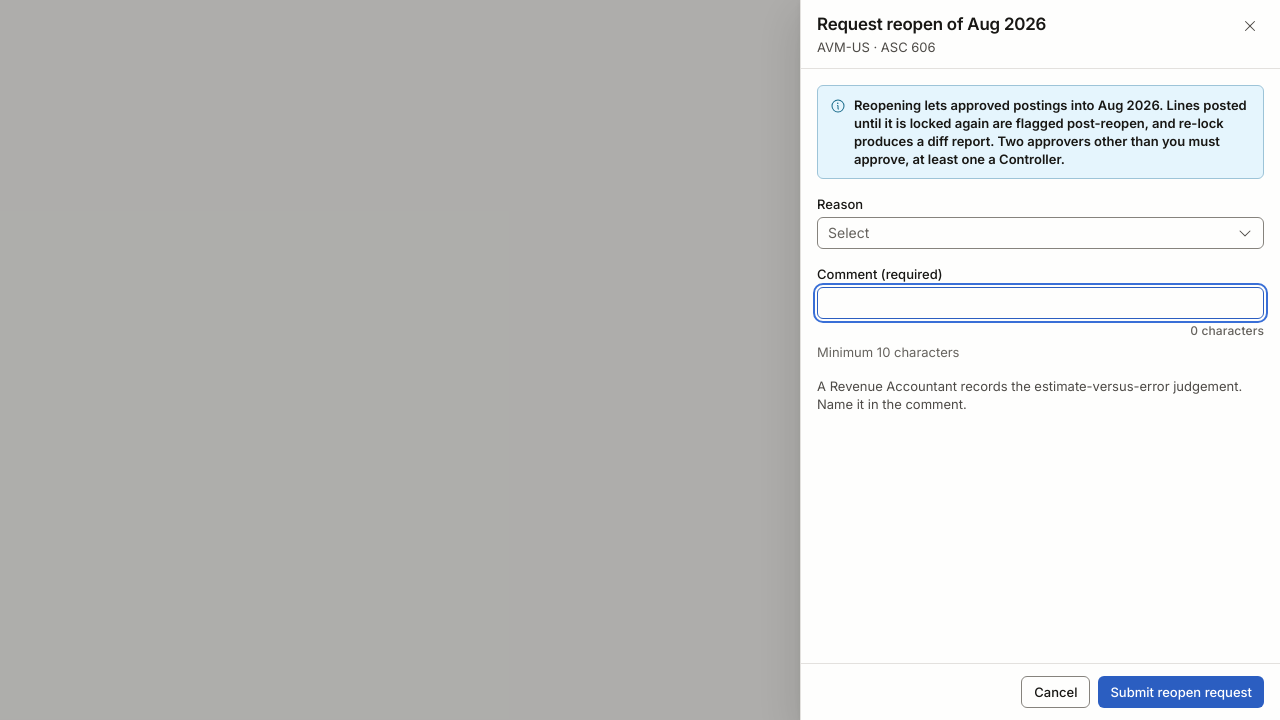
Scenario: requires reviewed evidence before sending an error-correction reopen
Click the dropdown named "Reason" at [1040, 233], box [817, 217, 1264, 249]
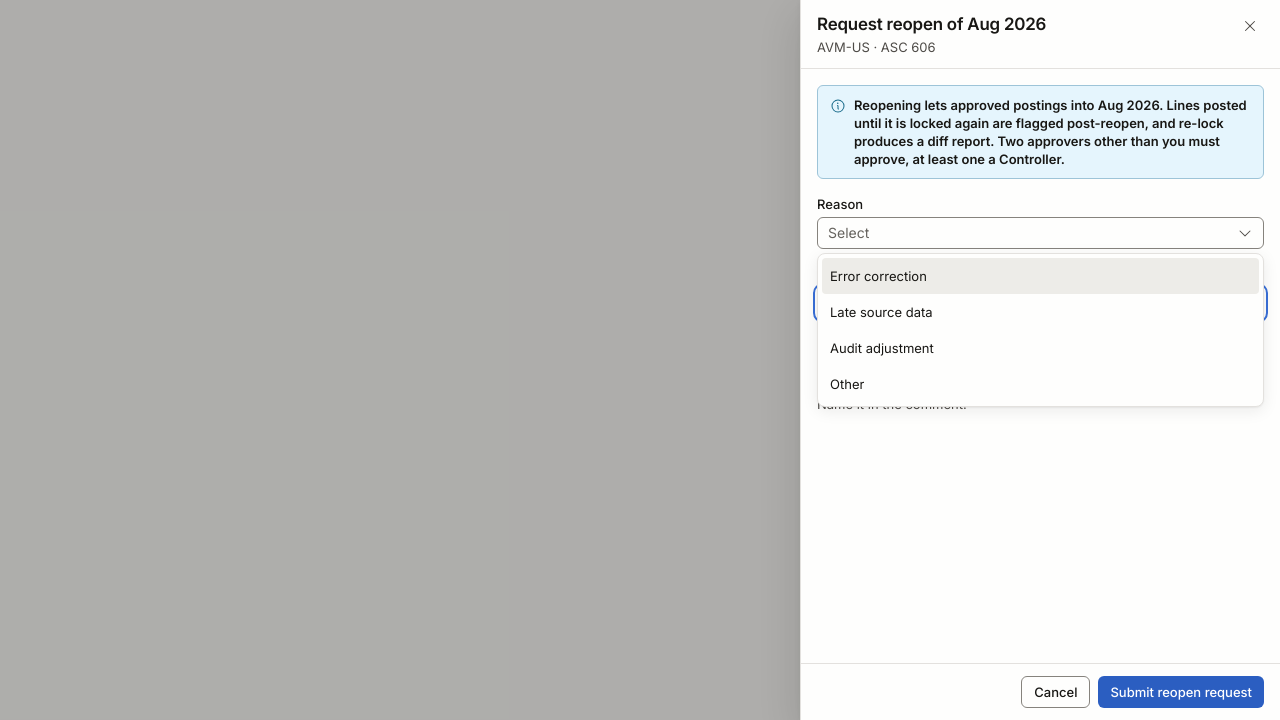
Press the mouse on the option "Error correction" at [878, 276], box [822, 258, 1259, 294]
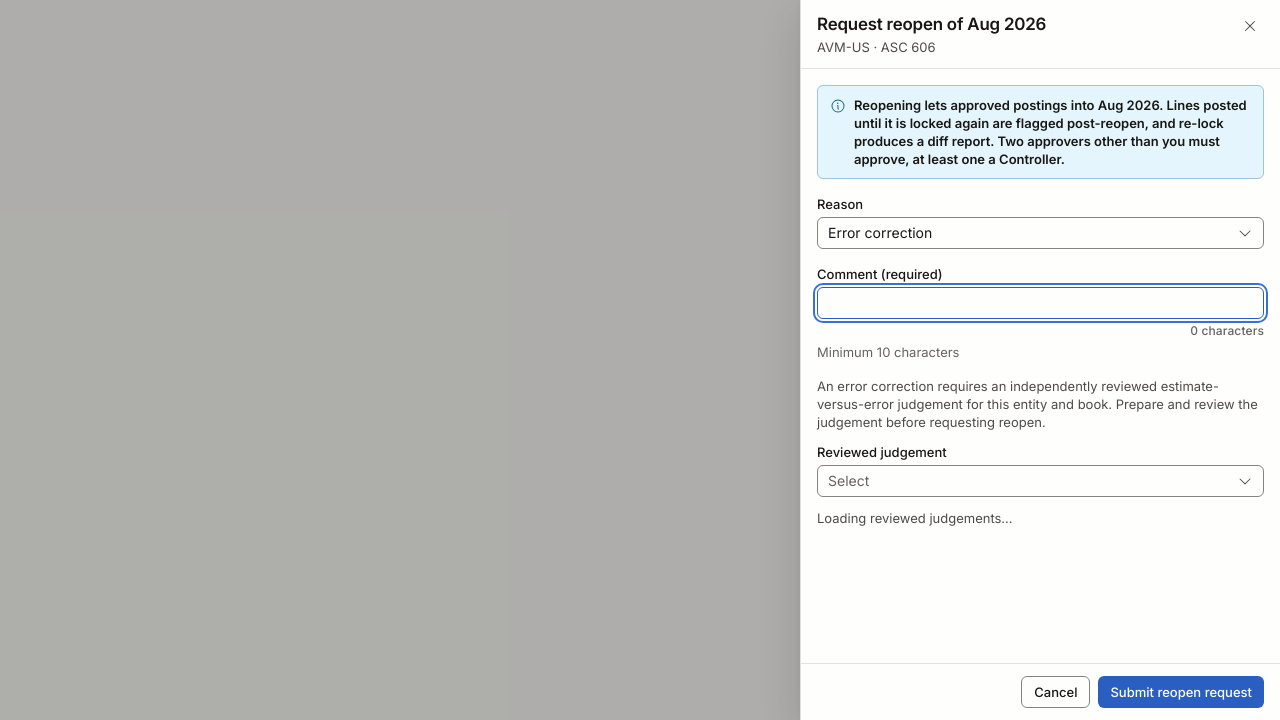
Type "Correct the duplicate August usage." into the text box labelled "Comment (required)" at [1040, 303], box [817, 287, 1264, 319]
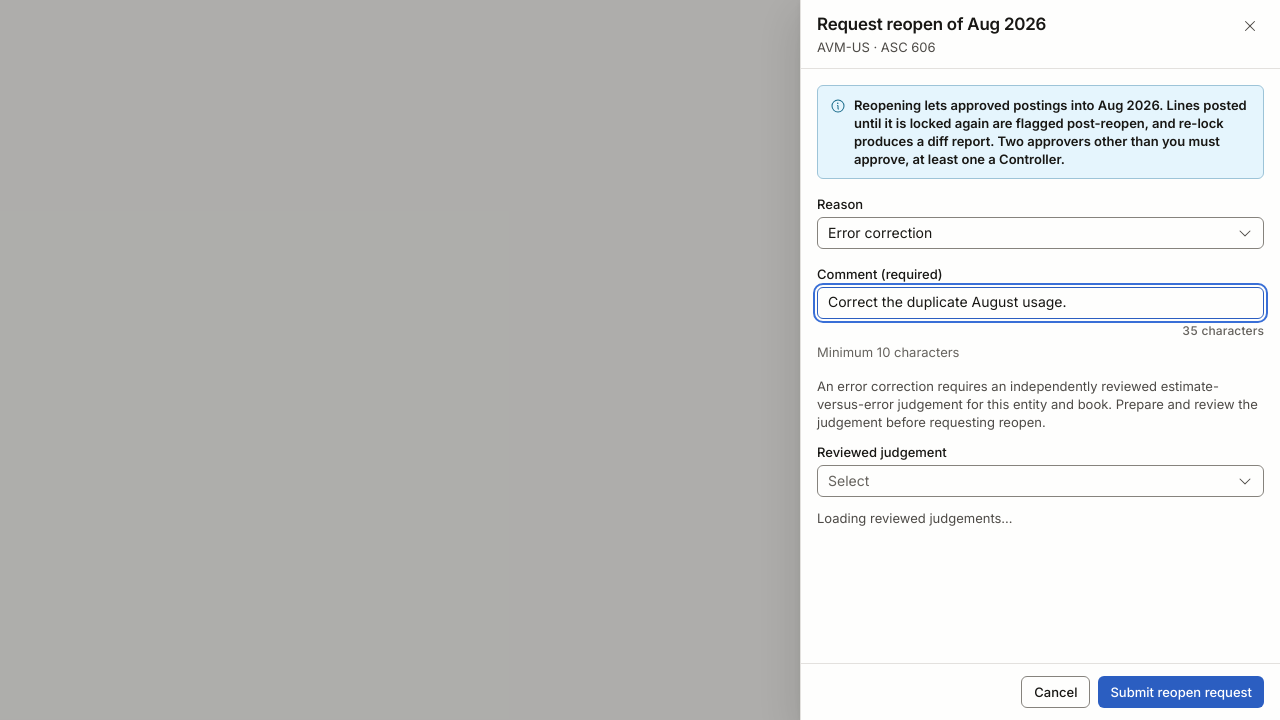
Click the button "Submit reopen request" at [1181, 692], box [1098, 676, 1264, 708]
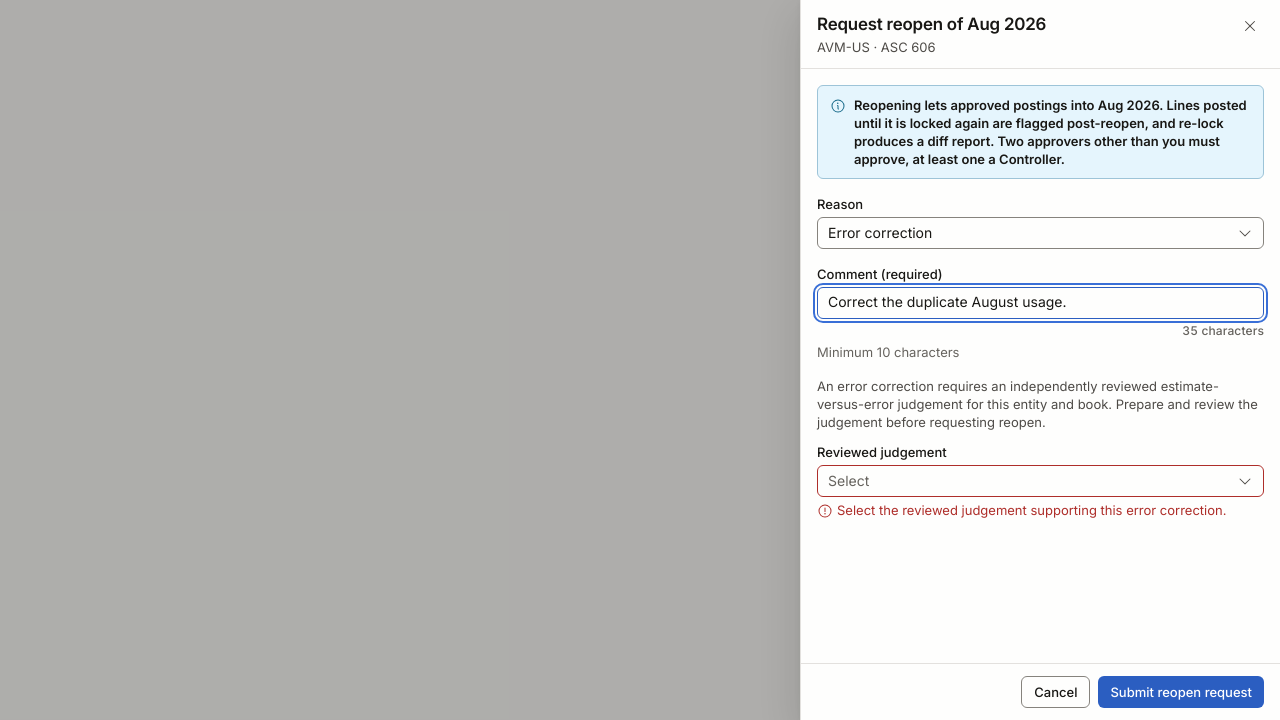
Result: the text "Select the reviewed judgement supporting this error correction." is shown at [817, 501, 1264, 519]
